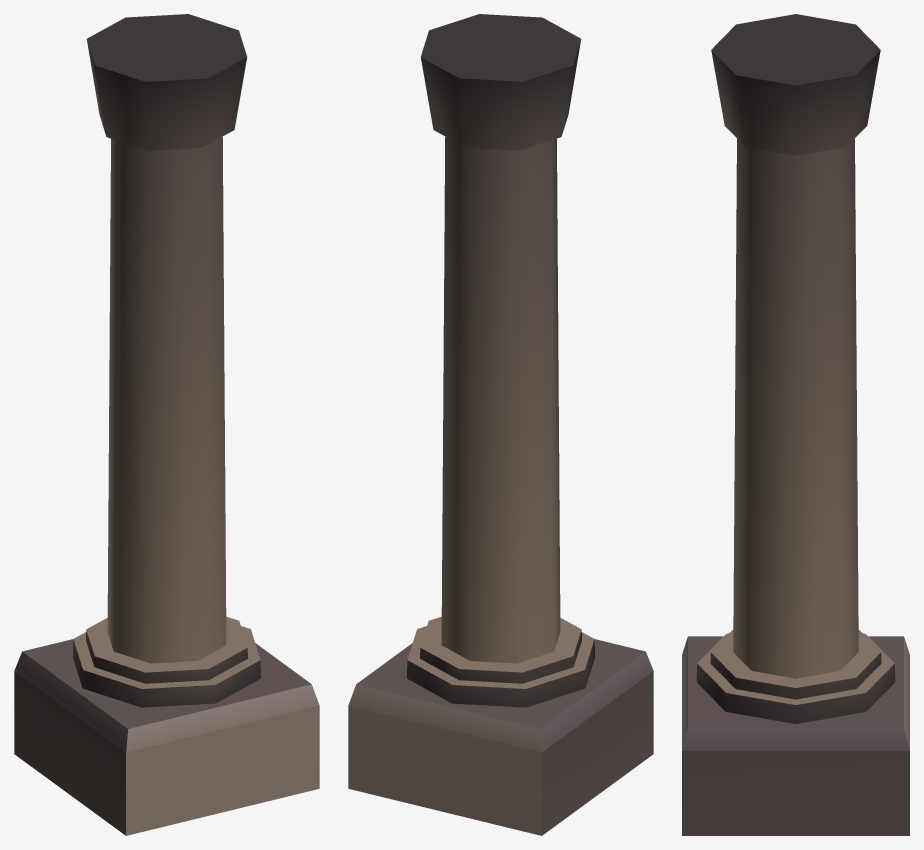
The model's file is buildings-ruins-ancientruins_v1.glb.
The picture shows the model from 3 angles, left to right: view 1: azimuth 30°, elevation 25°; view 2: azimuth 150°, elevation 25°; view 3: azimuth 270°, elevation 25°; orthographic projection.
Visible parts, largest first — view 1: AncientRuins_v1; view 2: AncientRuins_v1; view 3: AncientRuins_v1.
Boxes of the visible parts, x1,y1,x2,y2 form: AncientRuins_v1: [14, 14, 319, 835]; AncientRuins_v1: [348, 14, 653, 835]; AncientRuins_v1: [682, 14, 909, 835].
Size of the model in its own units: 1.43 by 5.1 by 1.43.
